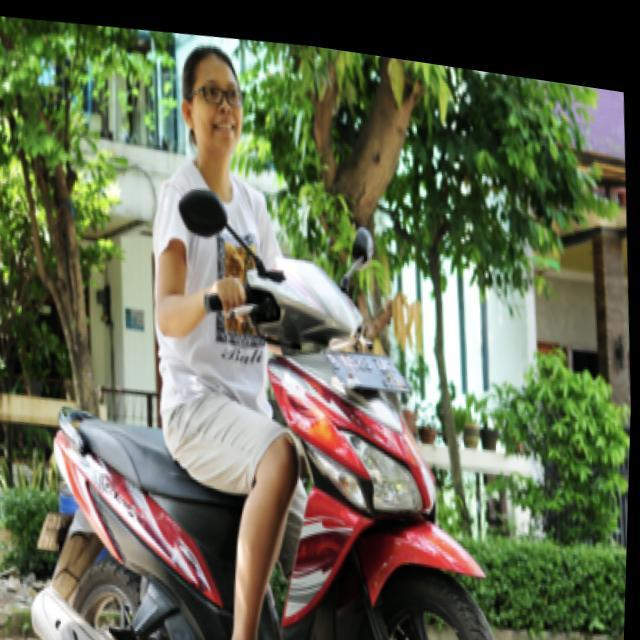Nonhelmet: (158, 39, 259, 160)
